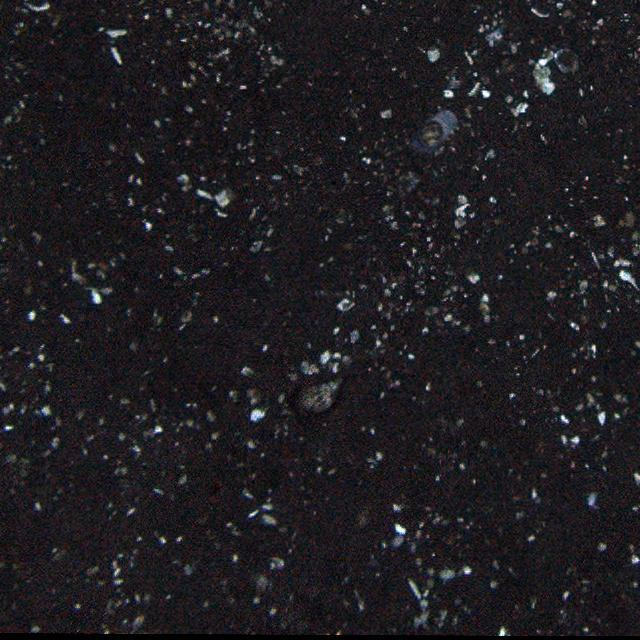whelk: (291, 379, 349, 417)
